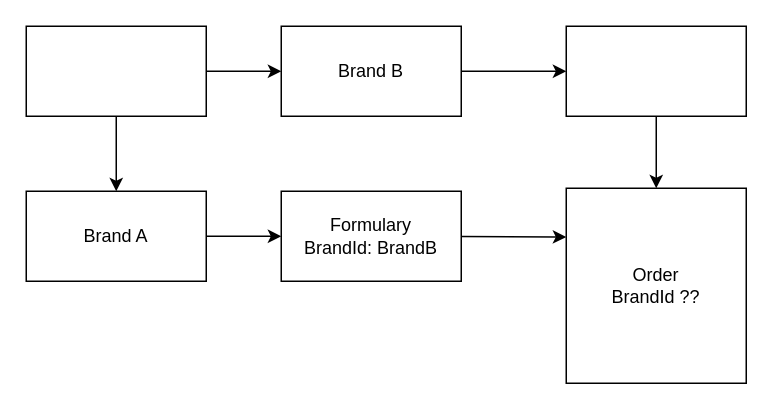
This 773x410 diagram has some shape labels left out. The shapes that lost their labels are listed below. From the top down, each one's centre as x and y in pixels, then its label:
pixel 115 70: Client
pixel 655 70: Formulary BrandId: BrandA
